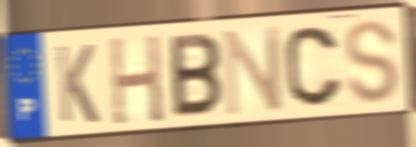B: (168, 31, 224, 121)
C: (282, 24, 346, 110)
H: (107, 32, 167, 128)
K: (53, 42, 102, 126)
N: (221, 22, 286, 119)
S: (342, 18, 402, 107)
